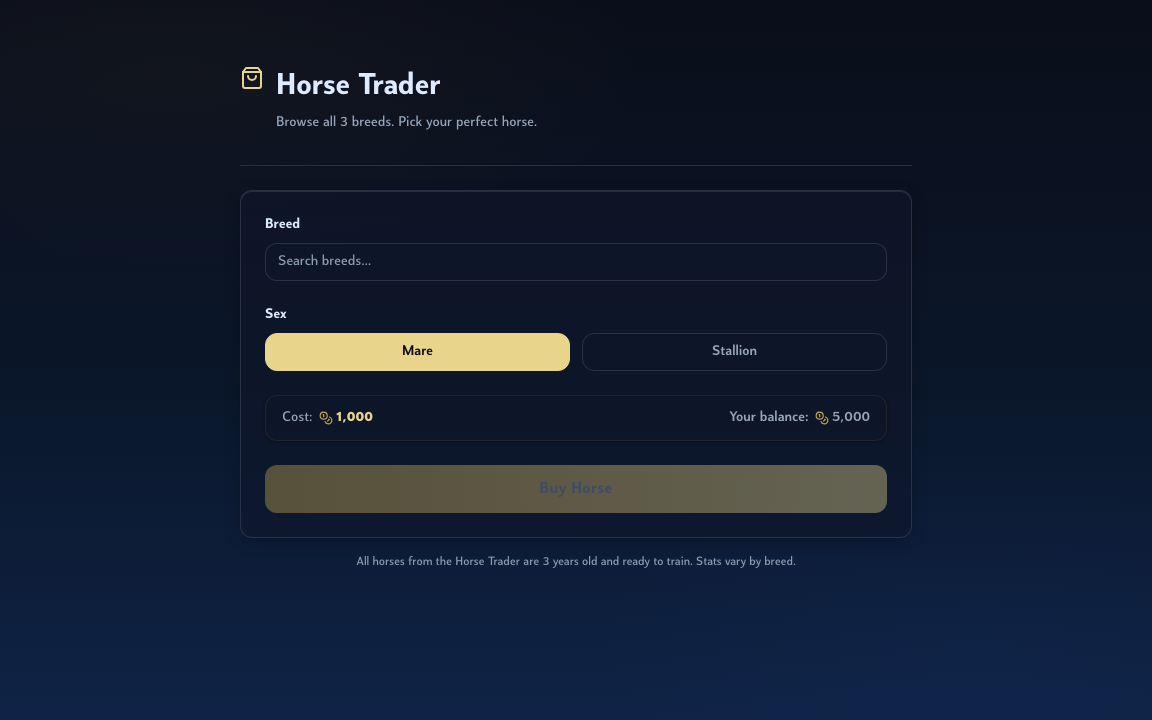
Test: HorseTraderPage breed combobox (Equoria-4yocc) › announces itself as a combobox and reports whether its list is open
Step 1. Click the dropdown labelled "Breed" → click(576, 262), box [265, 243, 887, 281]
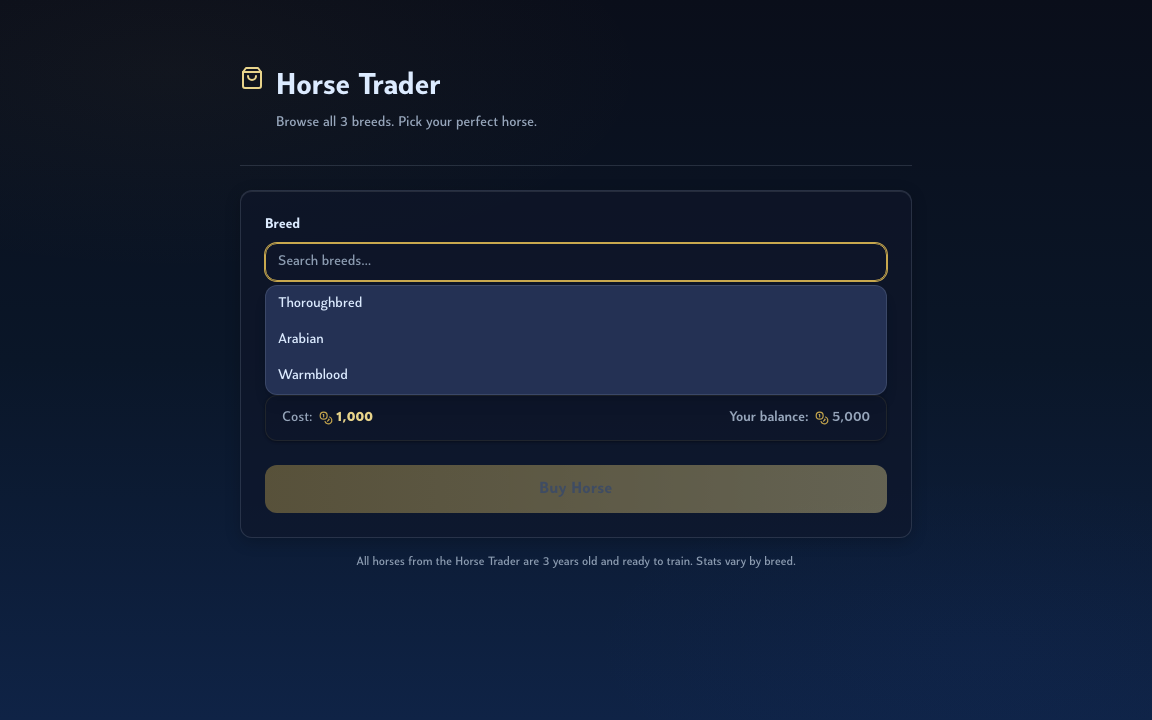
Expected: the dropdown labelled "Breed" is expanded, [265, 243, 887, 281]
Expected: the options read "Thoroughbred", "Arabian", "Warmblood", in this order, [278, 296, 362, 311]; [278, 332, 324, 347]; [278, 368, 348, 383]
